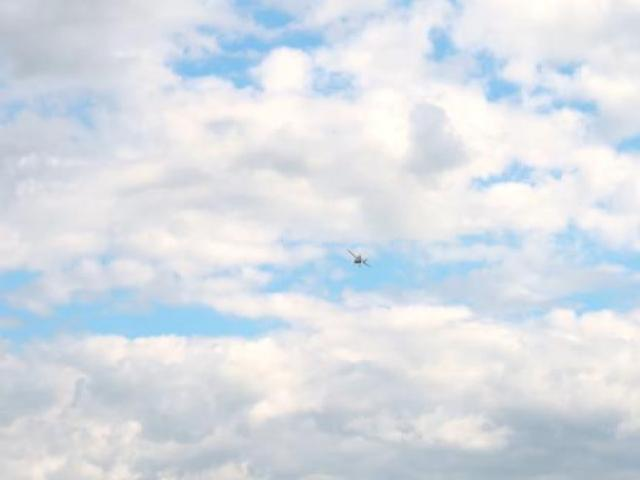uav: (348, 246, 372, 270)
